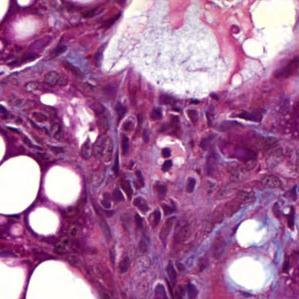steatosis: (44, 166, 86, 206), (22, 203, 64, 238)
